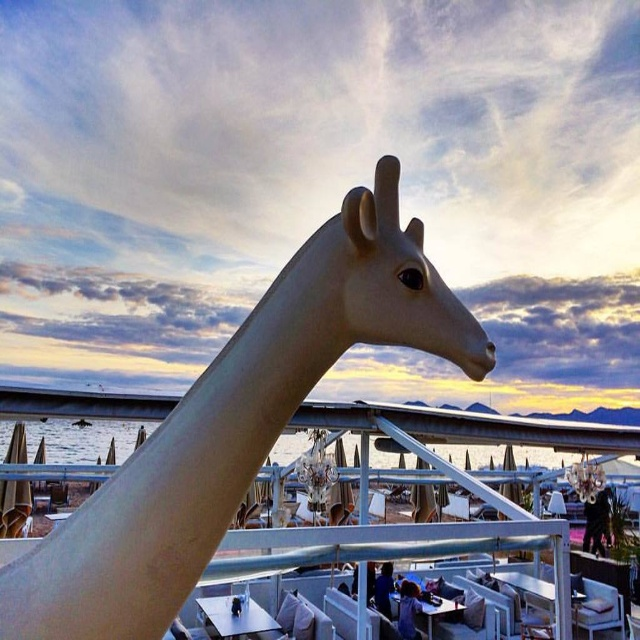Giraffe: (0, 152, 495, 639)
